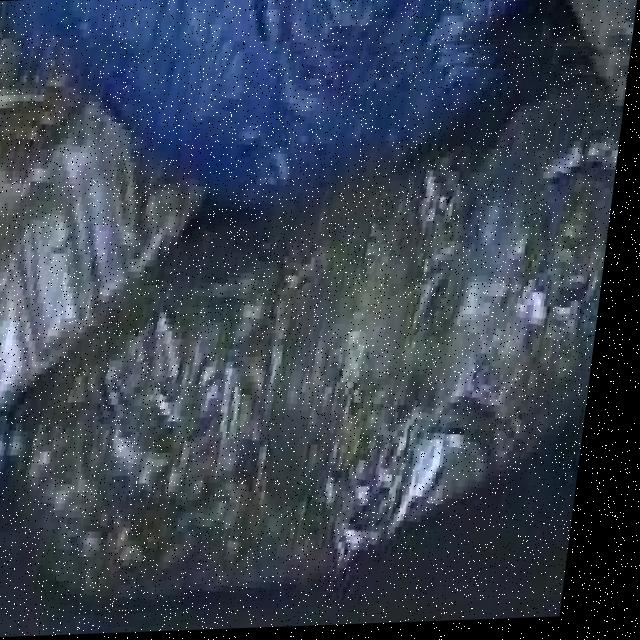plasticbottle: (0, 28, 635, 619)
